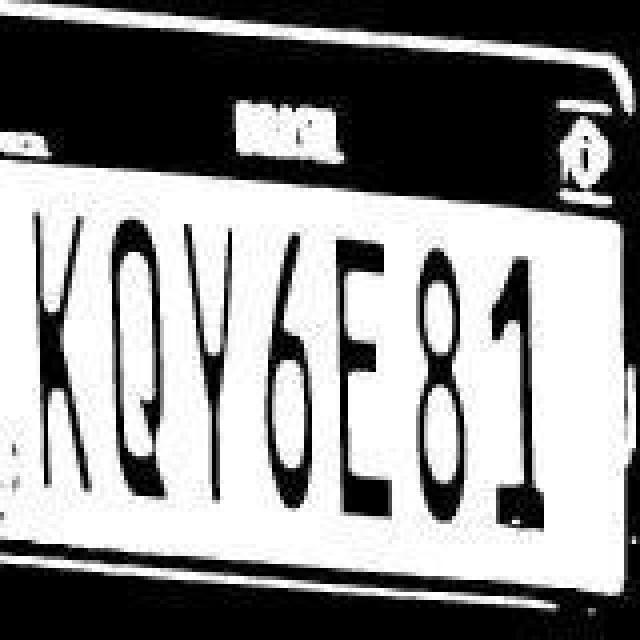1: (484, 252, 548, 532)
6: (262, 232, 322, 512)
8: (410, 244, 470, 524)
E: (332, 234, 396, 518)
K: (26, 208, 94, 496)
Q: (102, 216, 170, 504)
Y: (178, 218, 238, 510)
